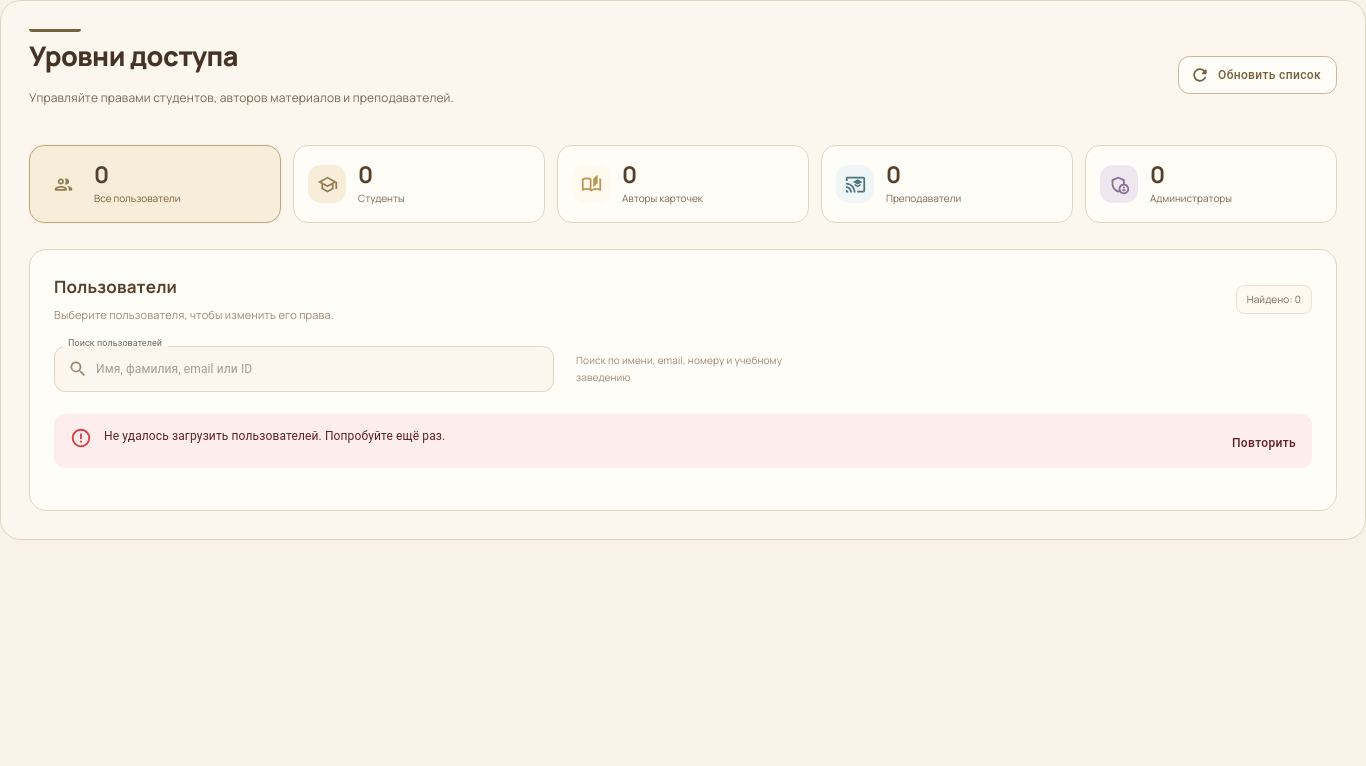
list loading failure can be retried
Click the button "Повторить": (1264, 443) [1224,424,1304,462]
Wait 500 ms
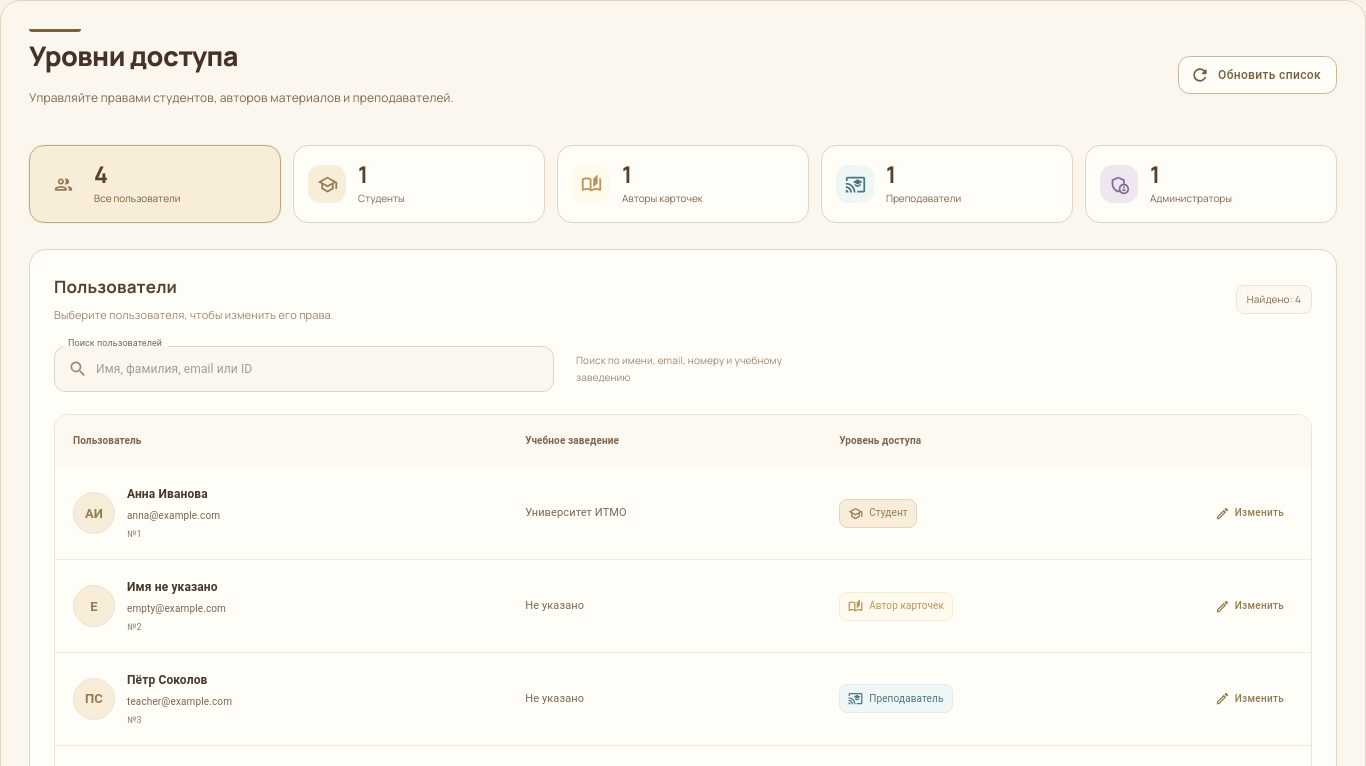
Now the text "anna@example.com" is shown, box [127,508,220,523]
Now the text "Не удалось загрузить пользователей" is gone
